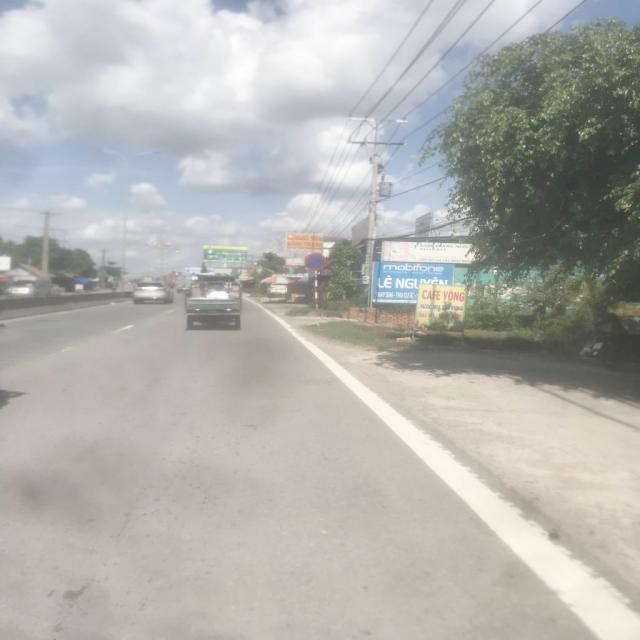cam_do_xe: (303, 253, 327, 271)
